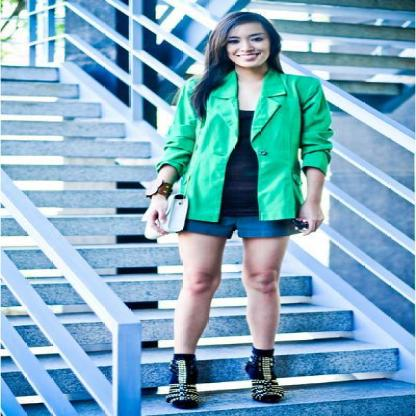bag: (141, 194, 190, 246)
jacket: (160, 65, 336, 221)
shirt: (220, 100, 302, 218)
shoe: (164, 347, 288, 415)
shorts: (175, 208, 308, 242)
